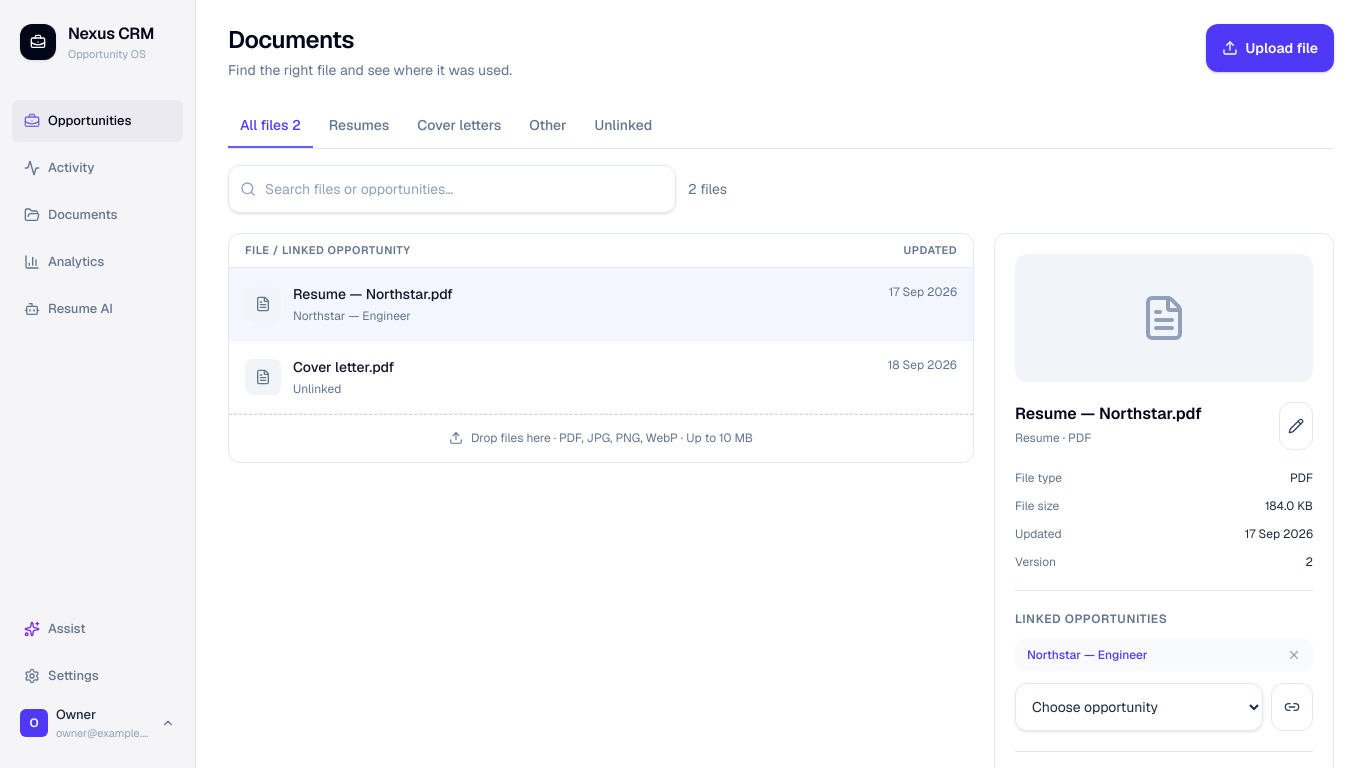
Scenario: DocumentsClient › searches and filters the collection while keeping selected document details visible
The image size is (1366, 768).
Expected: the heading "Documents" is shown, 228,24 -> 354,55
Expected: the element named "Selected document" shows "Resume — Northstar.pdf", 1015,403 -> 1202,424
Click the button "Unlinked" at coordinates (623, 126), box 582,104 -> 664,148
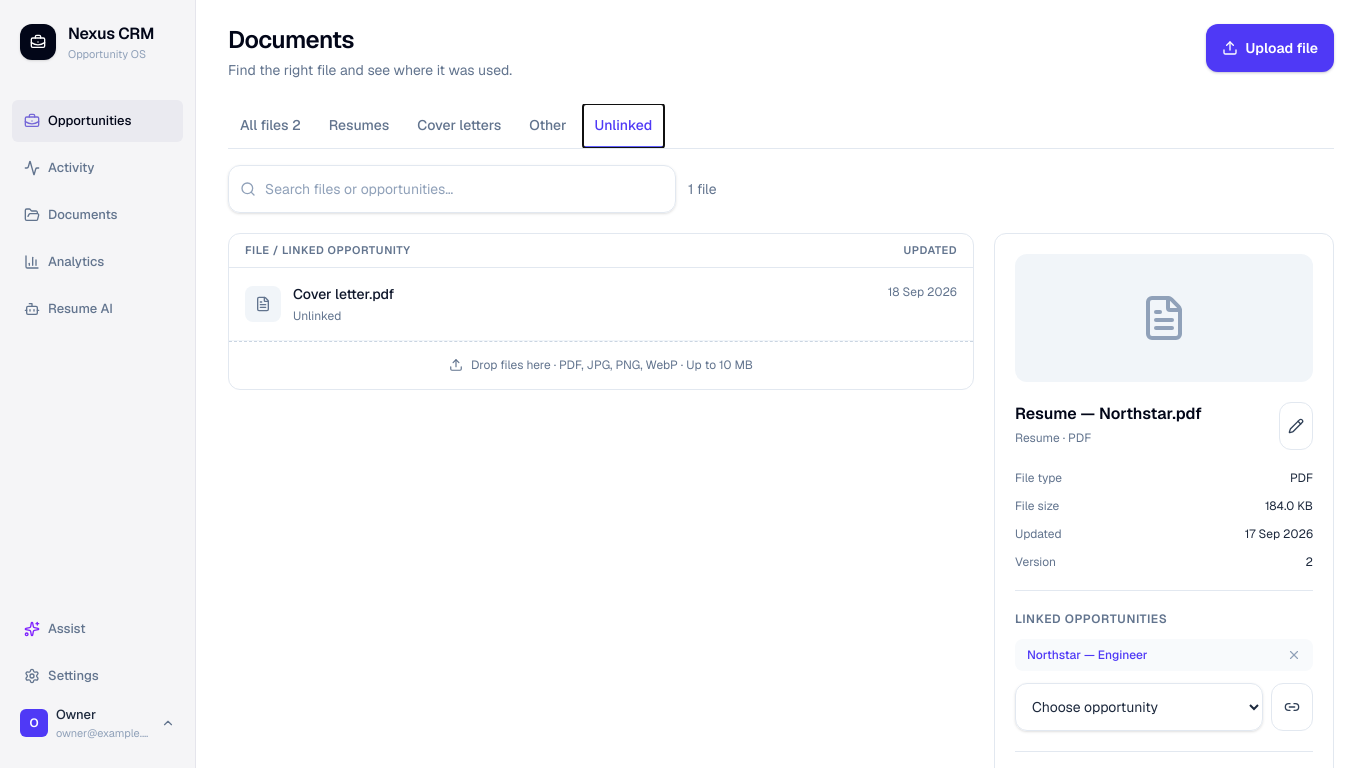
Expected: the button "Cover letter.pdf Unlinked 18 Sep 2026" is shown, 229,268 -> 973,340
Type "northstar" into the search field named "Search documents" at coordinates (452, 189), box 228,165 -> 676,213
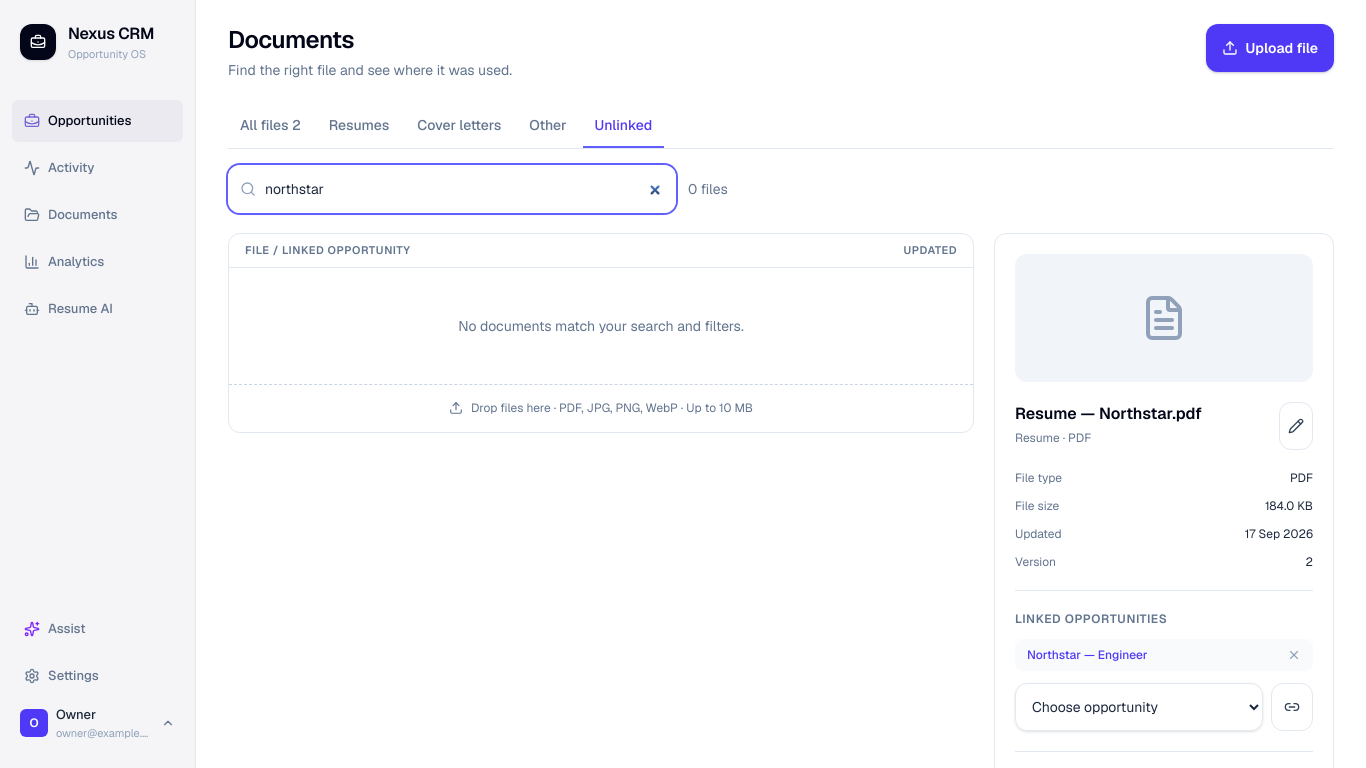
Now the text "No documents match your search and filters." is shown, box 458,316 -> 744,334
